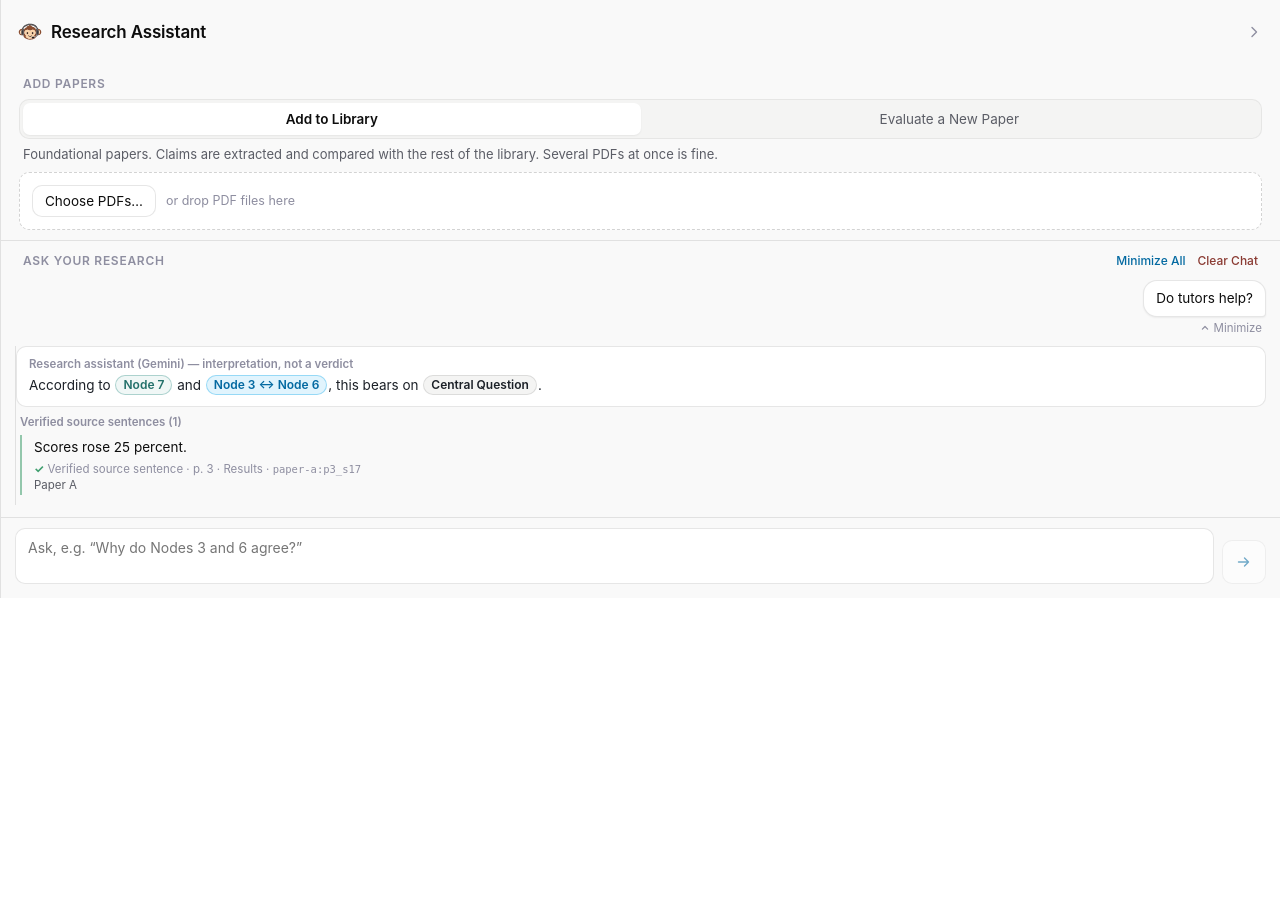
Scenario: clearing the chat › asks for confirmation, then clears through the chat hook and reports it
Step 1. Click the button "Clear Chat" → (1228, 260), box [1197, 253, 1258, 268]
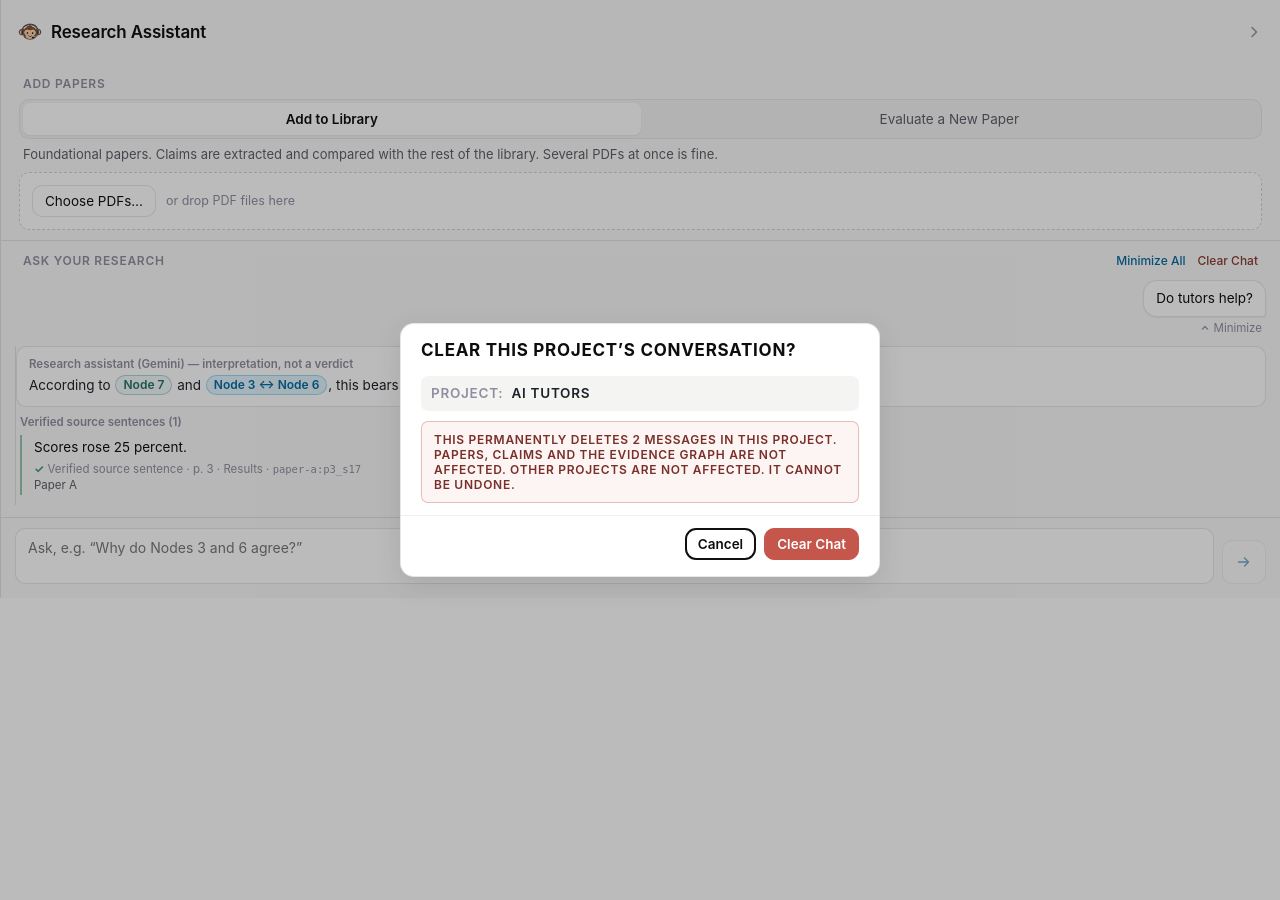
Expected: the dialog shows "2 messages", [400, 323, 880, 577]
Expected: the dialog shows "AI tutors", [512, 385, 590, 401]
Expected: the dialog shows "Papers, claims and the evidence graph are not affected", [434, 432, 842, 492]
Step 2. Click the button "Clear Chat" below "This permanently deletes" → (812, 544), box [764, 528, 859, 560]
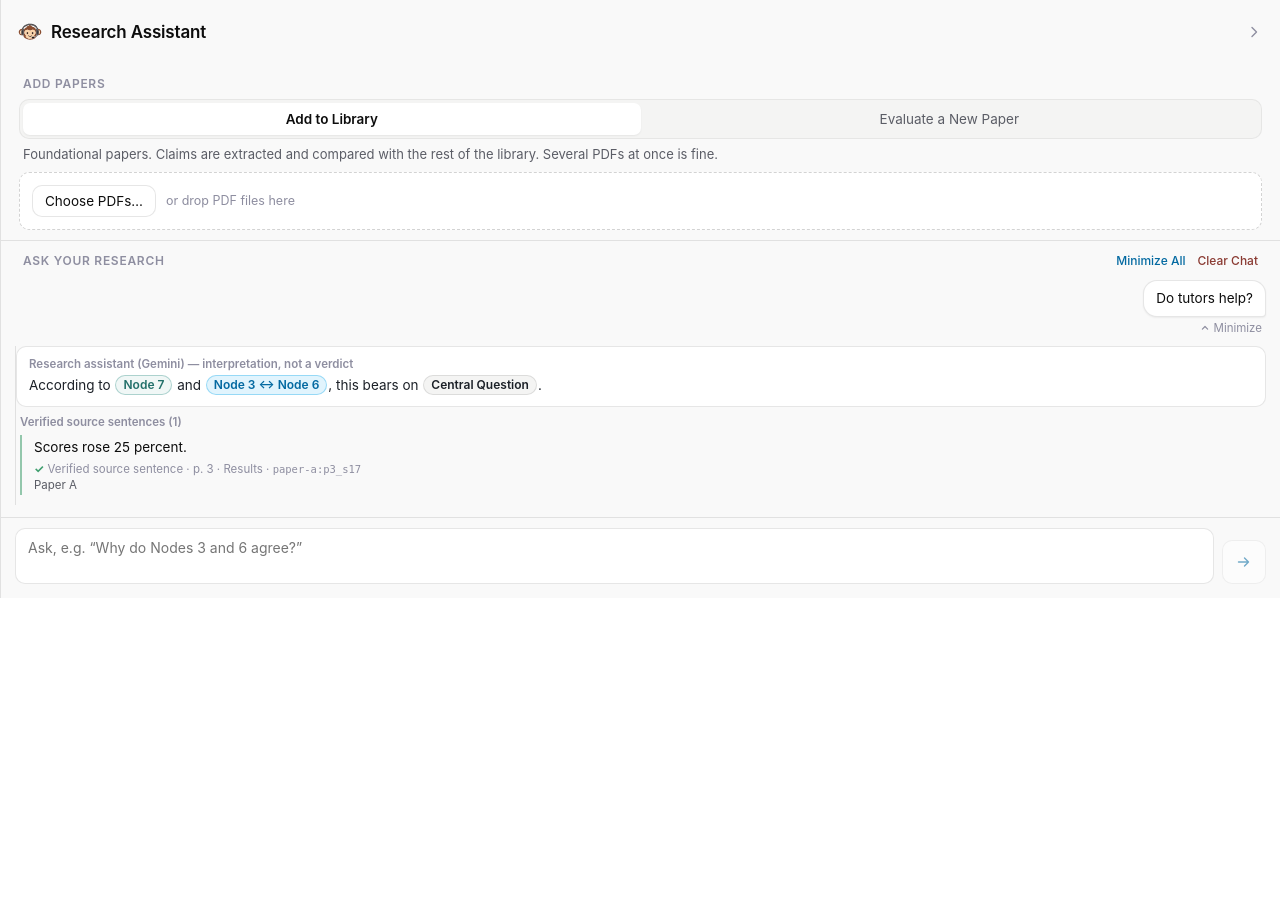
Expected: the dialog is gone
